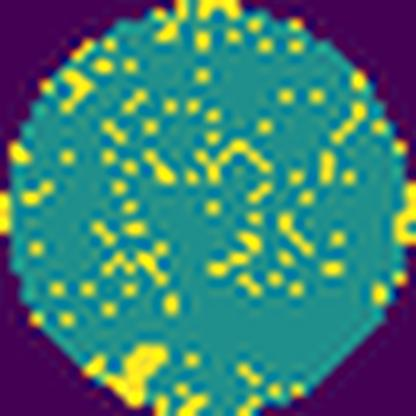Loc: (86, 343, 168, 404)
